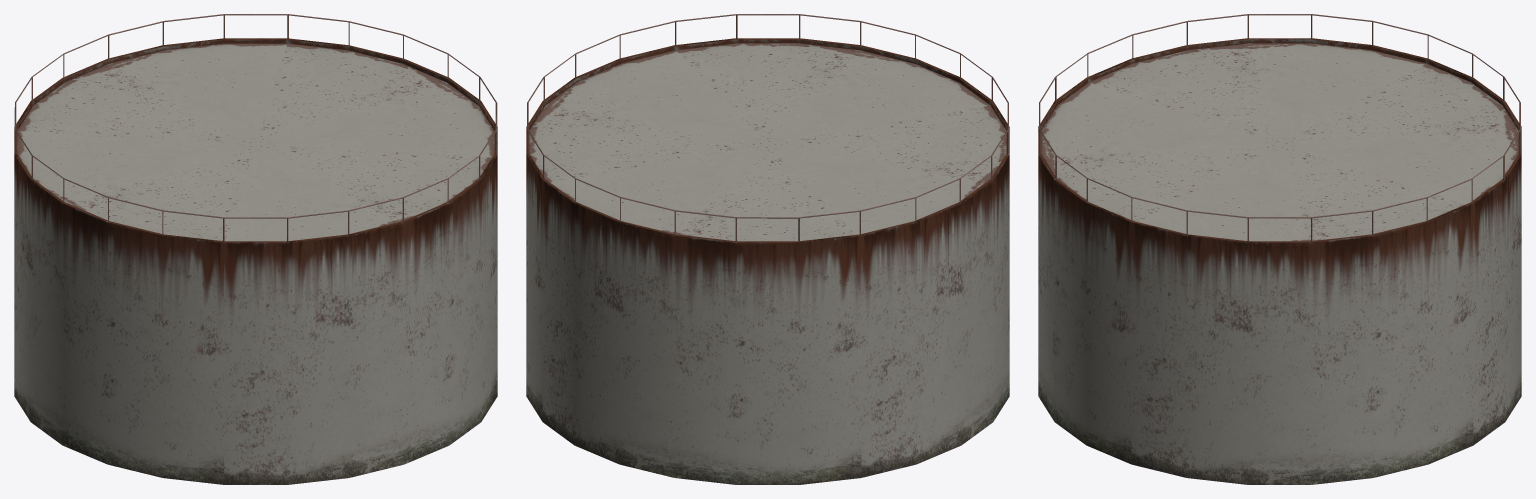
Rendered from StorageTank01.FBX.
The picture shows the model from 3 angles, left to right: view 1: azimuth 30°, elevation 25°; view 2: azimuth 150°, elevation 25°; view 3: azimuth 270°, elevation 25°; orthographic projection.
Parts seen in each view (by area): view 1: StorageTank01; view 2: StorageTank01; view 3: StorageTank01.
Part boxes in pixels (<box>): StorageTank01: <box>14,14,497,484</box>; StorageTank01: <box>526,14,1009,484</box>; StorageTank01: <box>1038,14,1521,484</box>.
Size of the model in its own units: 55.74 by 33.99 by 55.74.
